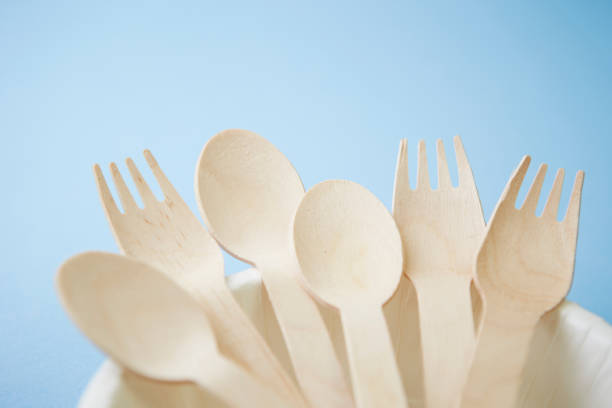Wooden Utensils: (91, 117, 558, 404)
